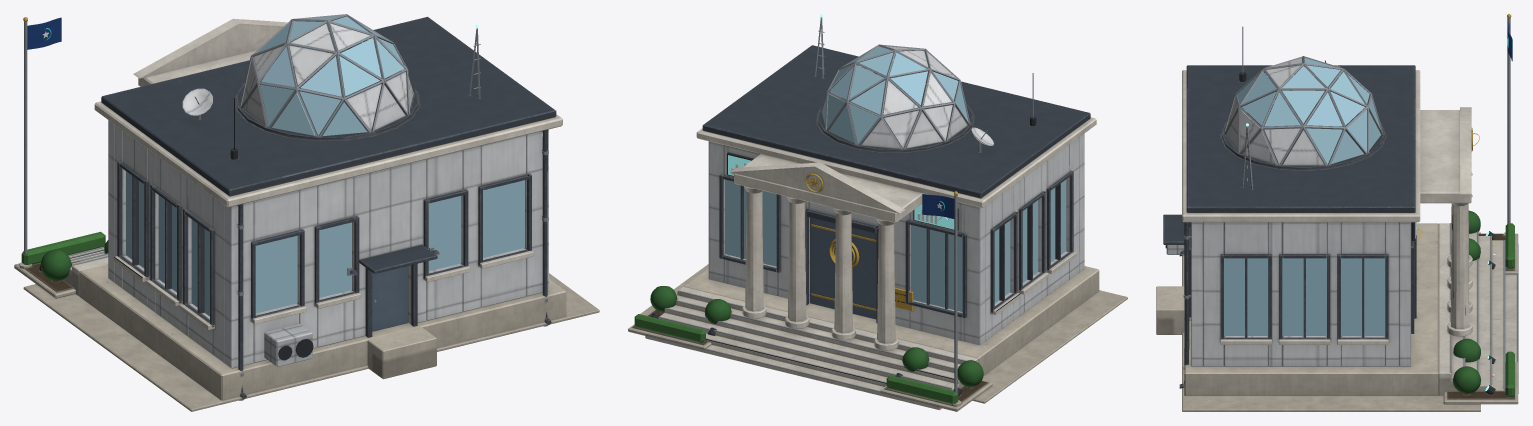
The model's file is centro_mando.fbx.
The picture shows the model from 3 angles, left to right: view 1: azimuth 30°, elevation 25°; view 2: azimuth 150°, elevation 25°; view 3: azimuth 270°, elevation 25°; orthographic projection. The views are drawn at different scales.
Visible parts, largest first — view 1: centro_mando, centro_mando_cristal, centro_mando_bandera; view 2: centro_mando, centro_mando_cristal, centro_mando_puerta_izq, centro_mando_puerta_der, centro_mando_bandera, centro_mando_holo_neon; view 3: centro_mando, centro_mando_cristal.
Part boxes in pixels (box(x1,y1,x2,y2)): centro_mando: box(14, 14, 599, 411); centro_mando_cristal: box(126, 16, 524, 316); centro_mando_bandera: box(27, 17, 61, 49); centro_mando: box(628, 17, 1127, 411); centro_mando_cristal: box(725, 46, 1066, 311); centro_mando_puerta_izq: box(810, 217, 835, 309); centro_mando_puerta_der: box(851, 228, 876, 319); centro_mando_bandera: box(922, 194, 954, 218); centro_mando_holo_neon: box(728, 155, 954, 229); centro_mando: box(1156, 14, 1518, 411); centro_mando_cristal: box(1224, 58, 1385, 335).
Size of the model in its own units: 18 by 12.4 by 15.51.
Materials: 5 (1 with a texture image).
